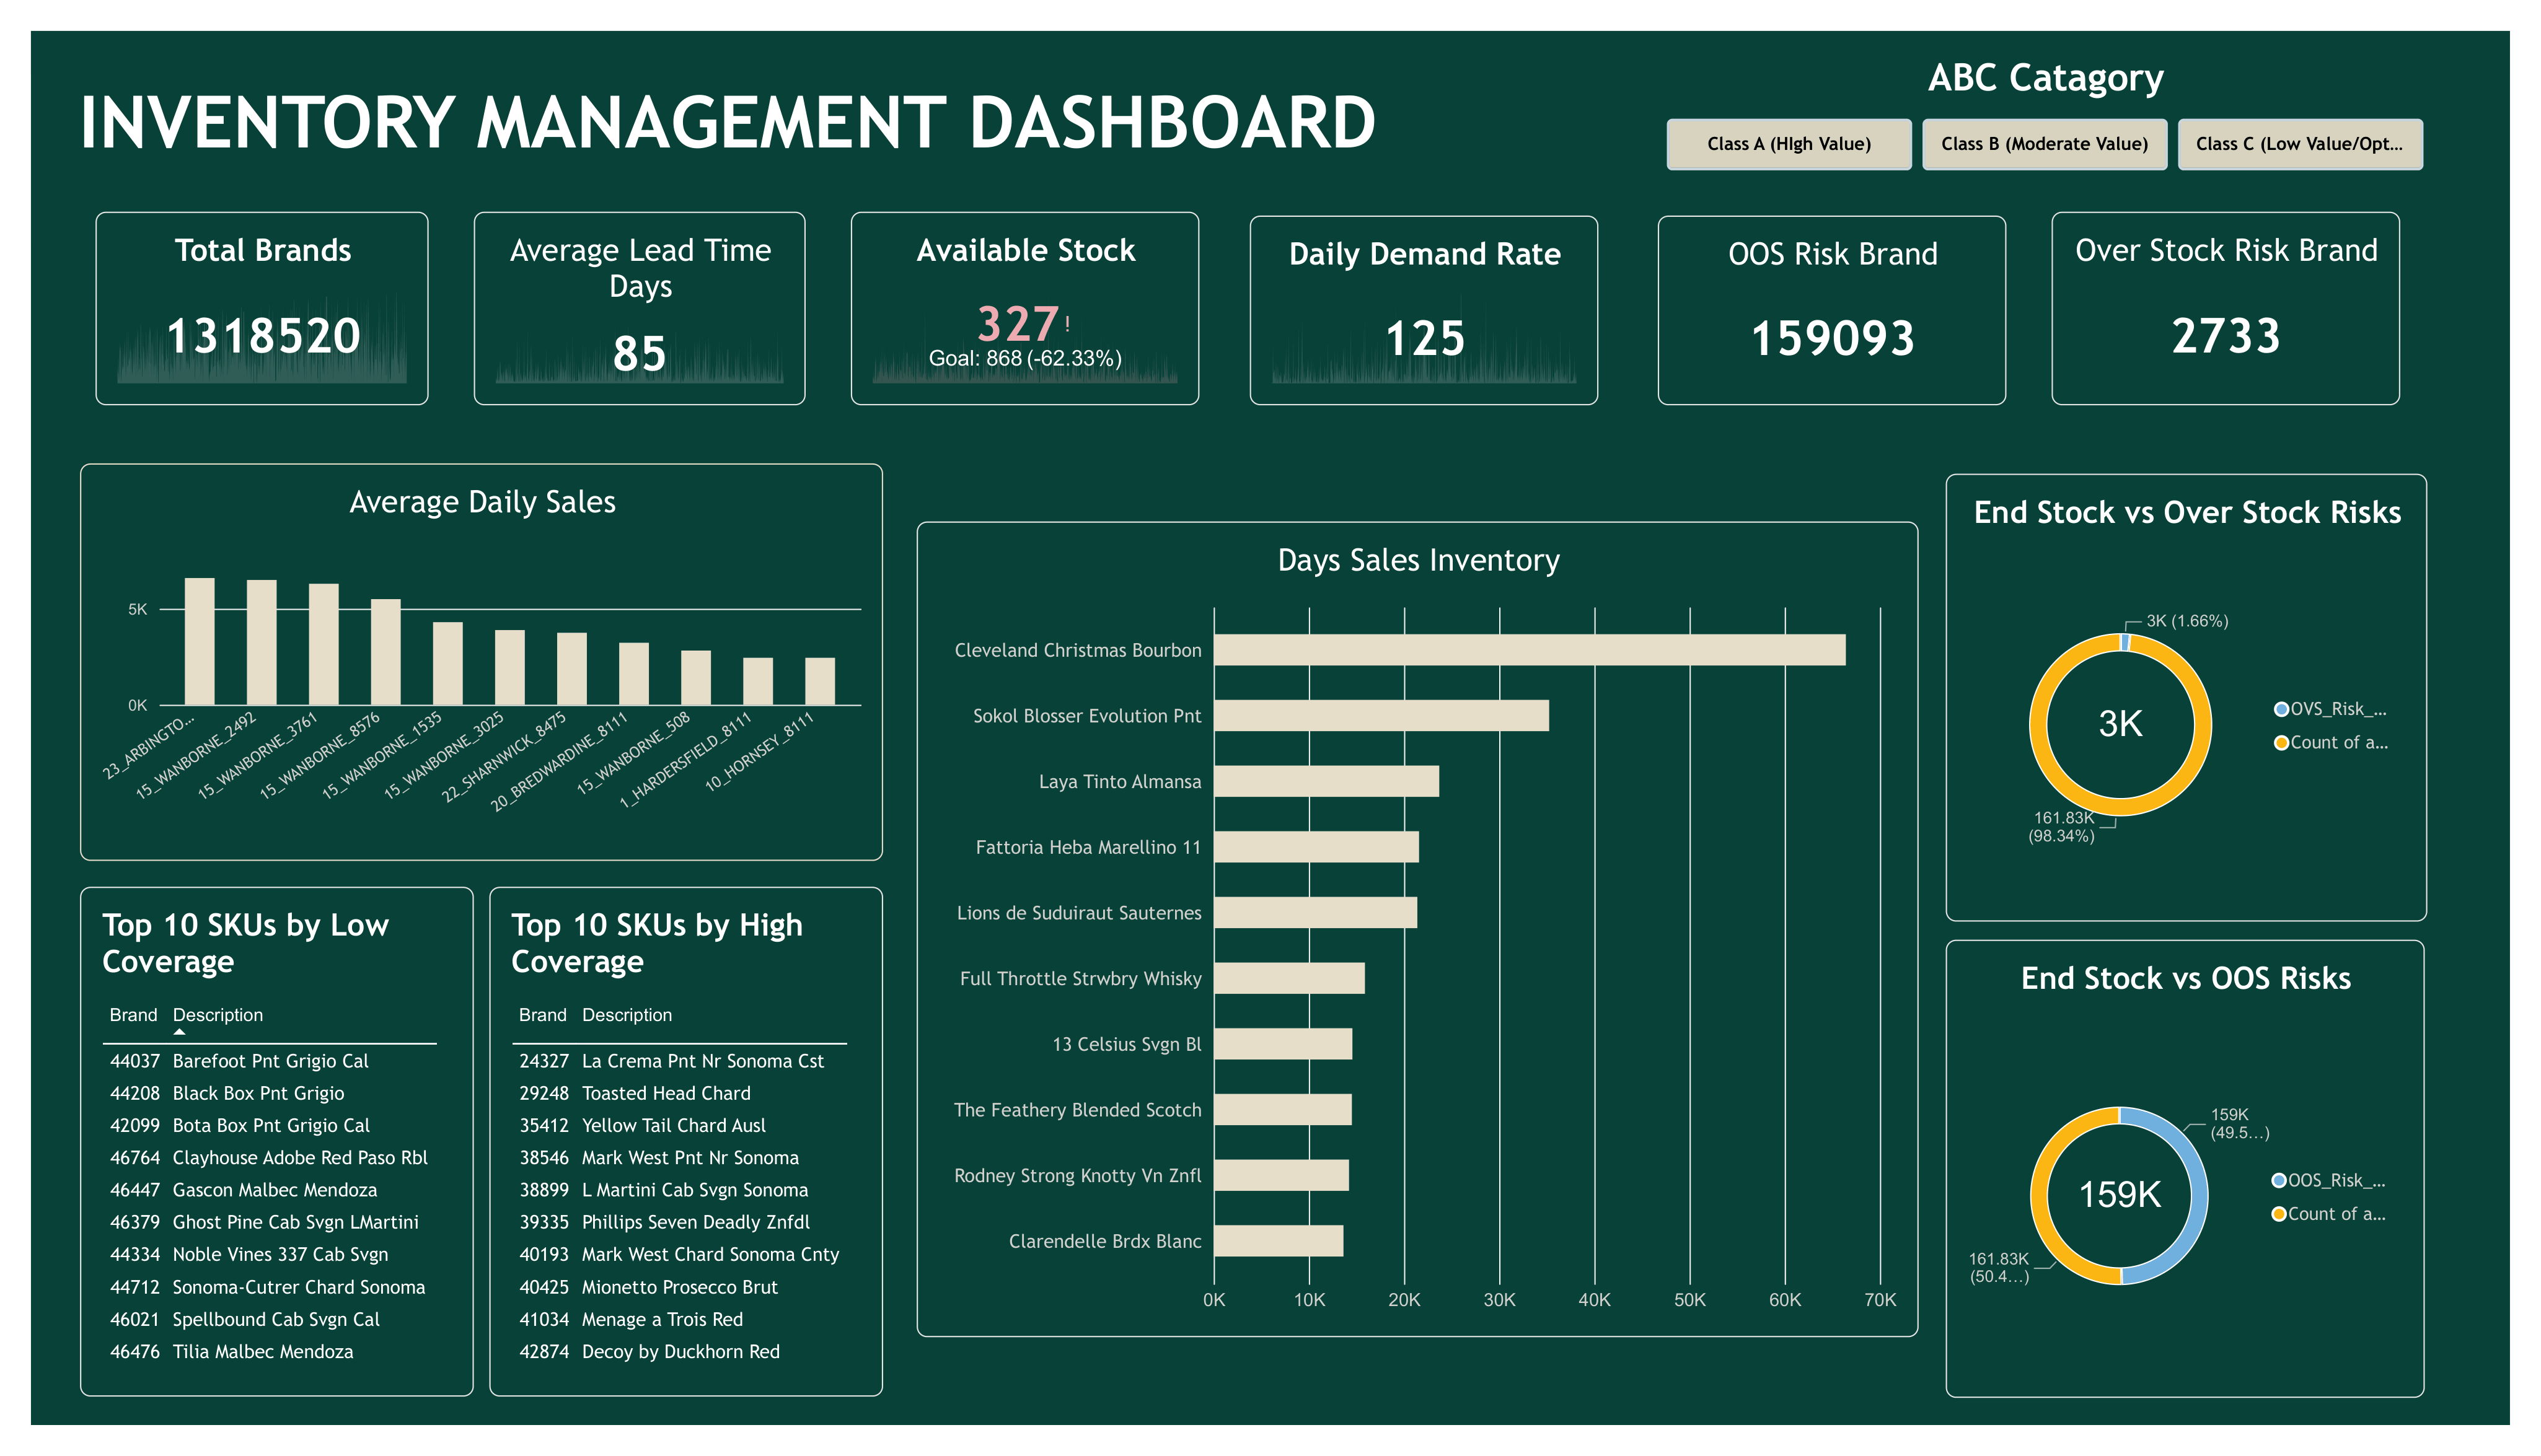

This screenshot's page, from the dashboard's own definition file:
{"tool":"powerbi","page":{"name":"Page 1","canvas":[1920,1080],"ordinal":0},"visuals":[{"type":"textbox","box":[36.7,36.7,1036.7,80],"z":1000},{"type":"kpi","title":"Available Stock","fields":{"Goal":["Sum(4  Sustainable Strategy (Auto Re-stock Alert) 2.reorder_point)"],"Indicator":["Sum(4  Sustainable Strategy (Auto Re-stock Alert) 2.current_ending_stock)1"],"TrendLine":["4  Sustainable Strategy (Auto Re-stock Alert) 2.Brand"]},"box":[635,140,270,150],"z":2000},{"type":"kpi","title":"Daily Demand Rate","fields":{"Indicator":["Sum(1  REP and Safety Stock.avg_daily_sales)"],"TrendLine":["1  REP and Safety Stock.Brand"]},"box":[944.2,143.3,270,146.7],"z":3000},{"type":"kpi","title":"OOS Risk Brand","fields":{"Indicator":["CountNonNull(4  Sustainable Strategy (Auto Re-stock Alert) 2.Brand)"],"TrendLine":["4  Sustainable Strategy (Auto Re-stock Alert) 2.automated_action_trigger"]},"box":[1260,143,270,147],"z":4000},{"type":"kpi","title":"Over Stock Risk Brand","fields":{"Indicator":["CountNonNull(4  Sustainable Strategy (Auto Re-stock Alert) 2.Brand)"],"TrendLine":["4  Sustainable Strategy (Auto Re-stock Alert) 2.automated_action_trigger"]},"box":[1565,140,270,150],"z":5000},{"type":"donutChart","title":"End Stock vs OOS Risks ","fields":{"Y":["4  Sustainable Strategy (Auto Re-stock Alert) 2.OOS_Risk_SKUs","CountNonNull(4  Sustainable Strategy (Auto Re-stock Alert) 2.automated_action_trigger)"]},"box":[1482.9,704.3,371.4,354.3],"z":6000},{"type":"donutChart","title":"End Stock vs Over Stock Risks ","fields":{"Y":["4  Sustainable Strategy (Auto Re-stock Alert) 2.OVS_Risk_SKUs","CountNonNull(4  Sustainable Strategy (Auto Re-stock Alert) 2.automated_action_trigger)"]},"box":[1482.9,342.9,372.9,347.1],"z":7000},{"type":"advancedSlicerVisual","title":"ABC Catagory","fields":{"Values":["2  ABC Analysis & Pareto Classification 2.abc_catagory"]},"box":[1267,18,587.5,90],"z":8000},{"type":"tableEx","title":"Top 10 SKUs by Low Coverage","fields":{"Values":["4  Sustainable Strategy (Auto Re-stock Alert) 2.Brand","4  Sustainable Strategy (Auto Re-stock Alert) 2.Description"]},"box":[37.5,662.5,305,395],"z":9000},{"type":"tableEx","title":"Top 10 SKUs by High Coverage","fields":{"Values":["4  Sustainable Strategy (Auto Re-stock Alert) 2.Brand","4  Sustainable Strategy (Auto Re-stock Alert) 2.Description"]},"box":[355,662.5,305,395],"z":10000},{"type":"clusteredColumnChart","title":"Average Daily Sales","fields":{"Category":["1  REP and Safety Stock.InventoryId"],"Y":["Avg(1  REP and Safety Stock.avg_daily_sales)"]},"box":[37.5,335,622.5,307.5],"z":11000},{"type":"clusteredBarChart","title":"Days Sales Inventory","fields":{"Category":["3  Working Capital Optimization (EOQ & Inventory Turnover).Description"],"Y":["Sum(3  Working Capital Optimization (EOQ & Inventory Turnover).days_sales_inventory)"]},"box":[686,380,776,632],"z":12000},{"type":"kpi","title":"Total Brands","fields":{"Indicator":["Sum(4  Sustainable Strategy (Auto Re-stock Alert) 2.Brand)"],"TrendLine":["4  Sustainable Strategy (Auto Re-stock Alert) 2.Brand"]},"box":[50,140,257.5,150],"z":13000},{"type":"kpi","title":"Average Lead Time Days","fields":{"Indicator":["Sum(1  REP and Safety Stock.avg_lead_time_days)"],"TrendLine":["1  REP and Safety Stock.Brand"]},"box":[343,140,257,150],"z":14000}]}

Visuals, with their boxes on the page's 1920x1080 design canvas (x1, y1, x2, y2). These are canvas units, not pixel positions in the 2541x1456 screenshot, which may show the page scaled, cropped or inside an application window:
textbox: 37, 37, 1073, 117
"Available Stock" kpi: 635, 140, 905, 290
"Daily Demand Rate" kpi: 944, 143, 1214, 290
"OOS Risk Brand" kpi: 1260, 143, 1530, 290
"Over Stock Risk Brand" kpi: 1565, 140, 1835, 290
"End Stock vs OOS Risks " donutChart: 1483, 704, 1854, 1059
"End Stock vs Over Stock Risks " donutChart: 1483, 343, 1856, 690
"ABC Catagory" advancedSlicerVisual: 1267, 18, 1854, 108
"Top 10 SKUs by Low Coverage" tableEx: 38, 662, 342, 1058
"Top 10 SKUs by High Coverage" tableEx: 355, 662, 660, 1058
"Average Daily Sales" clusteredColumnChart: 38, 335, 660, 642
"Days Sales Inventory" clusteredBarChart: 686, 380, 1462, 1012
"Total Brands" kpi: 50, 140, 308, 290
"Average Lead Time Days" kpi: 343, 140, 600, 290
